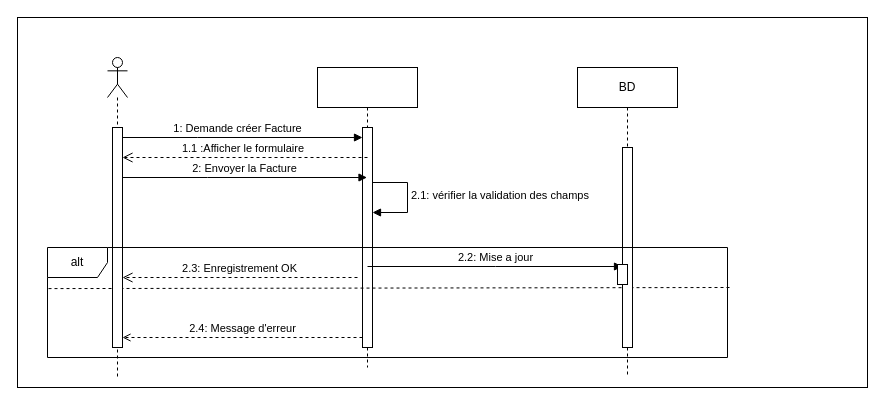
This 885x405 diagram has some shape labels left out. Each missing label, with the box of its shape:
Responsable société: (106, 56, 128, 378)
systéme Divalto: (316, 66, 418, 368)
